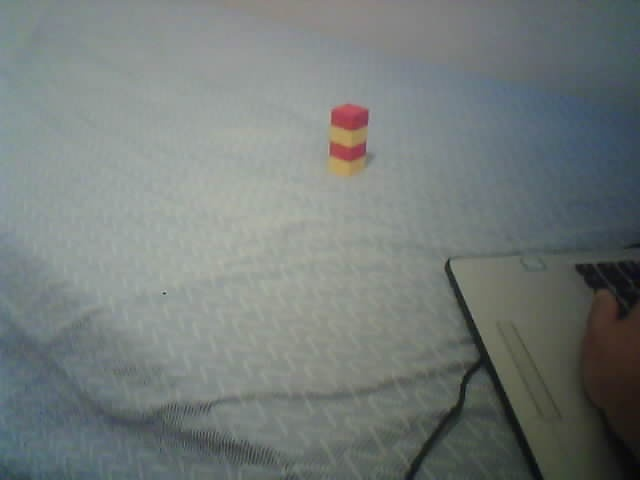lego: (328, 103, 369, 177)
